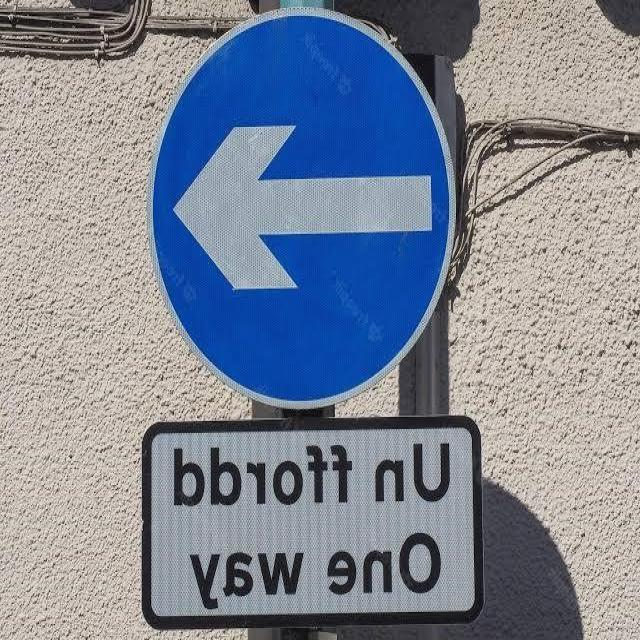Turn Left: (165, 38, 464, 398)
